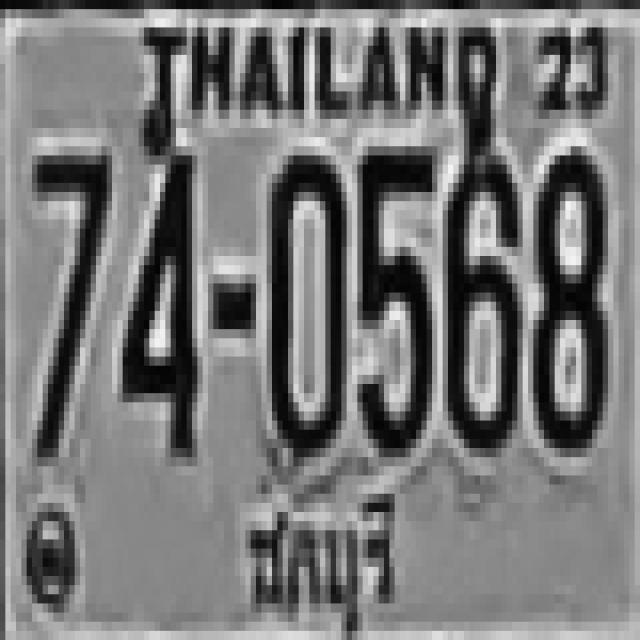0: (267, 146, 341, 448)
4: (117, 137, 192, 448)
5: (355, 137, 429, 448)
6: (443, 146, 517, 448)
7: (27, 142, 106, 452)
8: (528, 146, 603, 448)
Chonburi: (242, 484, 407, 640)
